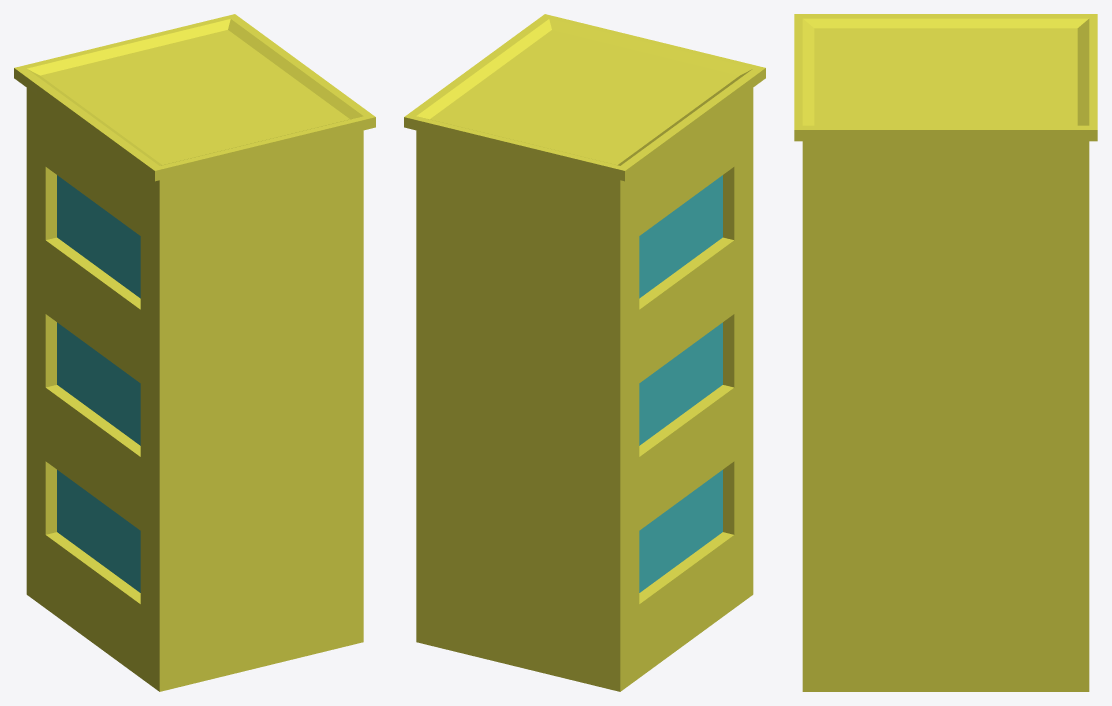
Rendered from huis.FBX.
3 views of the same model, side by side, from view 1: azimuth 30°, elevation 25°; view 2: azimuth 150°, elevation 25°; view 3: azimuth 270°, elevation 25° (orthographic). The views are drawn at different scales.
Visible parts, largest first — view 1: Box001; view 2: Box001; view 3: Box001.
Part boxes in pixels (<box>): Box001: <box>14,14,375,691</box>; Box001: <box>404,14,765,691</box>; Box001: <box>794,14,1097,691</box>.
Size of the model in its own units: 58.99 by 134 by 65.1.
